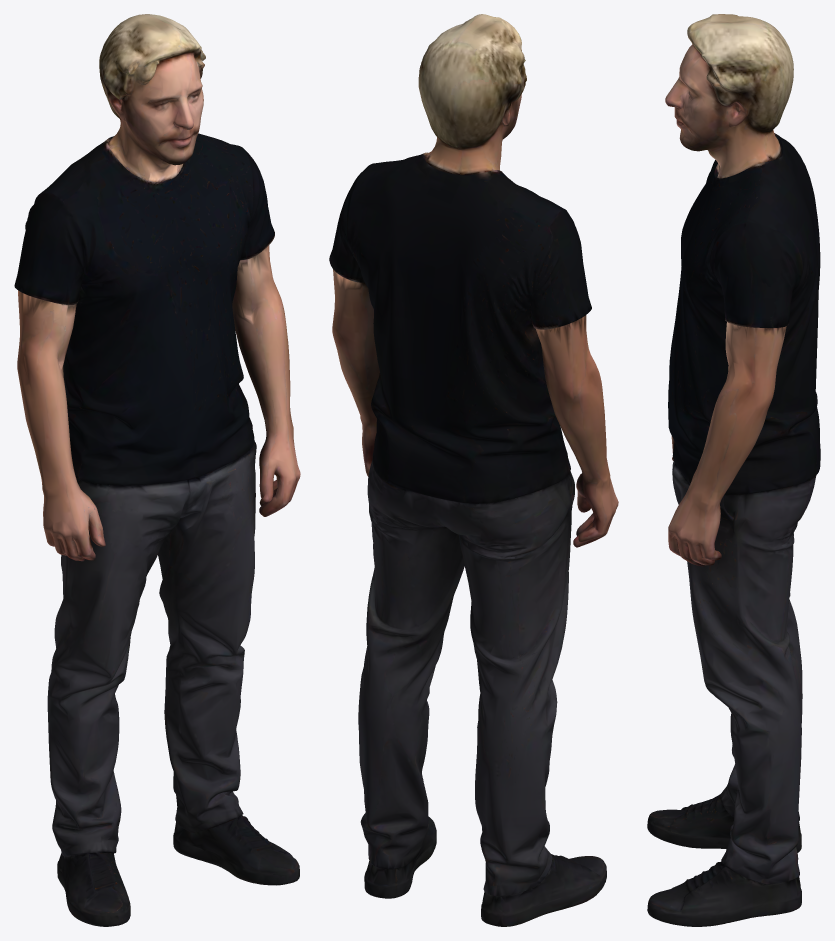
File: eddi-web.glb
3 renders of one model, left to right at view 1: azimuth 30°, elevation 25°; view 2: azimuth 150°, elevation 25°; view 3: azimuth 270°, elevation 25°, orthographic.
Parts seen in each view (by area): view 1: node_0; view 2: node_0; view 3: node_0.
Part boxes in pixels (x1,y1,x2,y2): node_0: (14,14,300,926); node_0: (329,14,618,926); node_0: (647,14,820,926).
Size of the model in its own units: 0.3657 by 1.16 by 0.213.
1 material, 1 textured.
